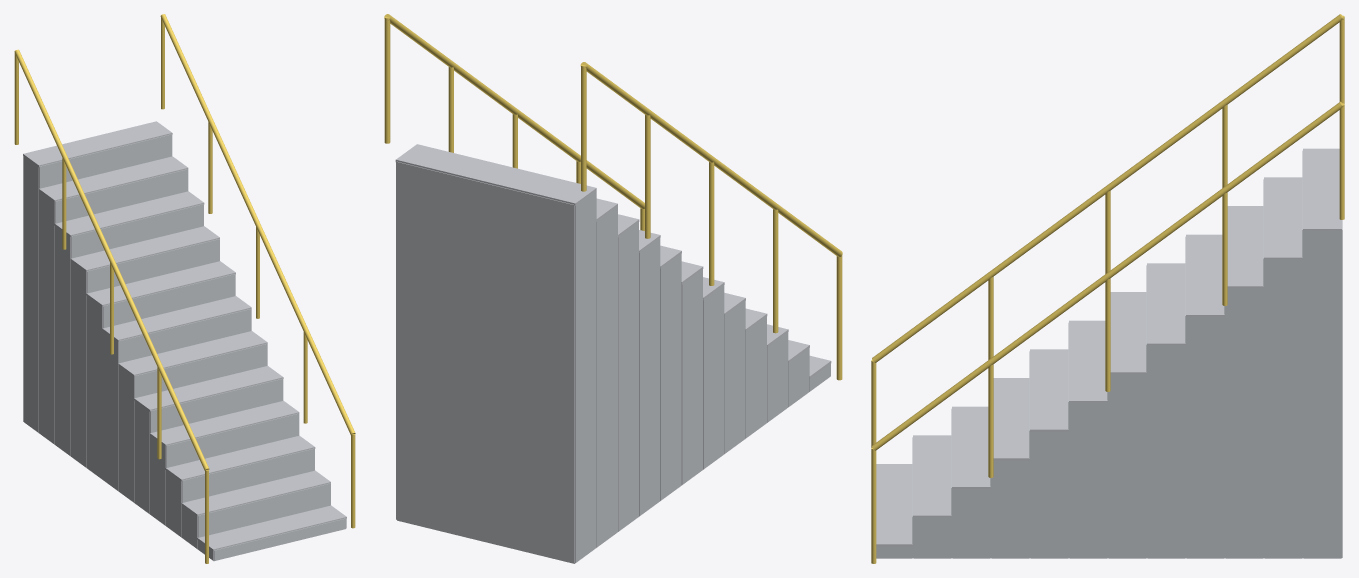
The model's file is base_stairs.fbx.
3 renders of one model, left to right at view 1: azimuth 30°, elevation 25°; view 2: azimuth 150°, elevation 25°; view 3: azimuth 270°, elevation 25°, orthographic. The views are drawn at different scales.
Visible parts, largest first — view 1: base_stairs; view 2: base_stairs; view 3: base_stairs.
Boxes of the visible parts, x1,y1,x2,y2 form: base_stairs: (14, 14, 355, 563); base_stairs: (384, 14, 842, 563); base_stairs: (871, 14, 1344, 563).
Size of the model in its own units: 1.69 by 4.02 by 3.74.
